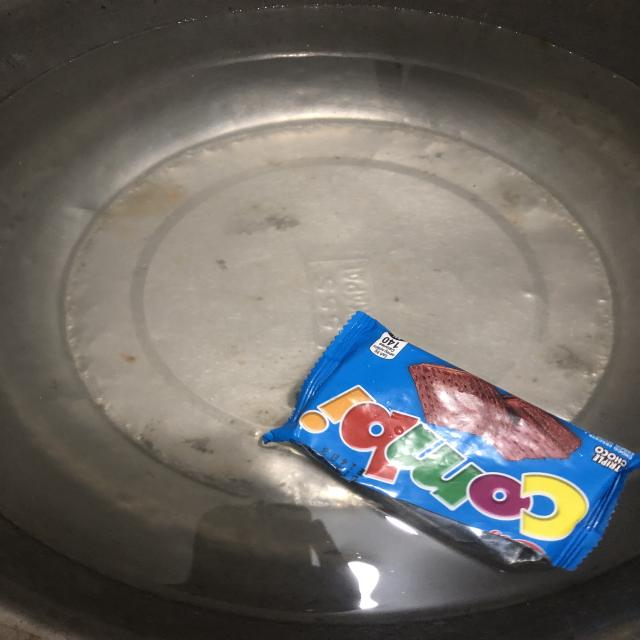Plastic Wrapper: (262, 312, 640, 570)
